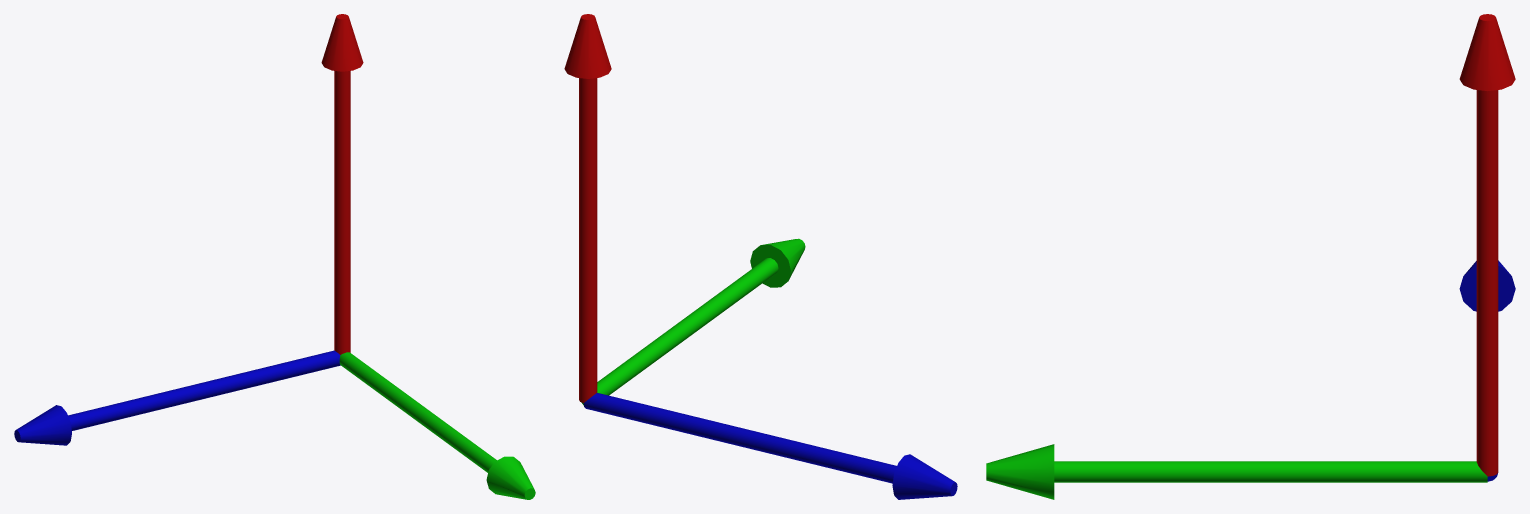
Rendered from GizmoAxisTranslate.fbx.
The picture shows the model from 3 angles, left to right: view 1: azimuth 30°, elevation 25°; view 2: azimuth 150°, elevation 25°; view 3: azimuth 270°, elevation 25°; orthographic projection. The views are drawn at different scales.
Visible parts, largest first — view 1: Cylinder01; view 2: Cylinder01; view 3: Cylinder01.
Part boxes in pixels (x1=…): Cylinder01: x1=14, y1=14, x2=535, y2=499; Cylinder01: x1=564, y1=14, x2=957, y2=499; Cylinder01: x1=986, y1=14, x2=1515, y2=499.
Bounding box in the file's own units: 4.89 × 4.89 × 4.89.
